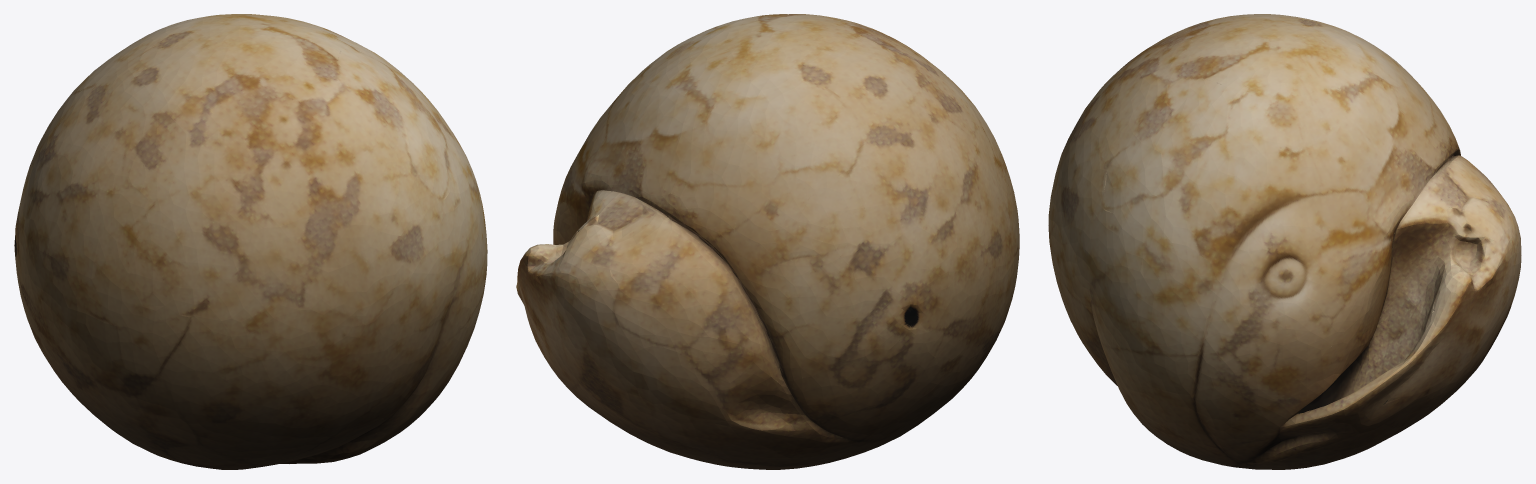
3 views of the same model, side by side, from view 1: azimuth 30°, elevation 25°; view 2: azimuth 150°, elevation 25°; view 3: azimuth 270°, elevation 25° (orthographic). The views are drawn at different scales.
Visible parts, largest first — view 1: world; view 2: world; view 3: world.
Boxes of the visible parts, x1,y1,x2,y2 form: world: (14,14,487,469); world: (516,14,1019,469); world: (1048,14,1521,469).
Size of the model in its own units: 0.0307 by 0.029 by 0.0315.
Materials: 1 (1 with a texture image).
